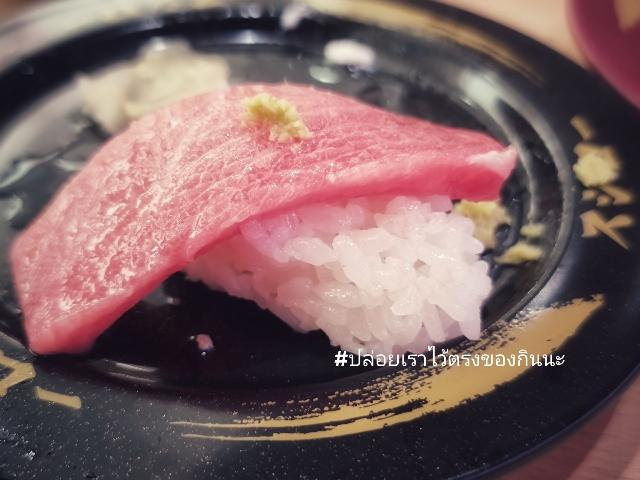janback: (20, 0, 601, 476)
janred: (541, 0, 640, 127)
